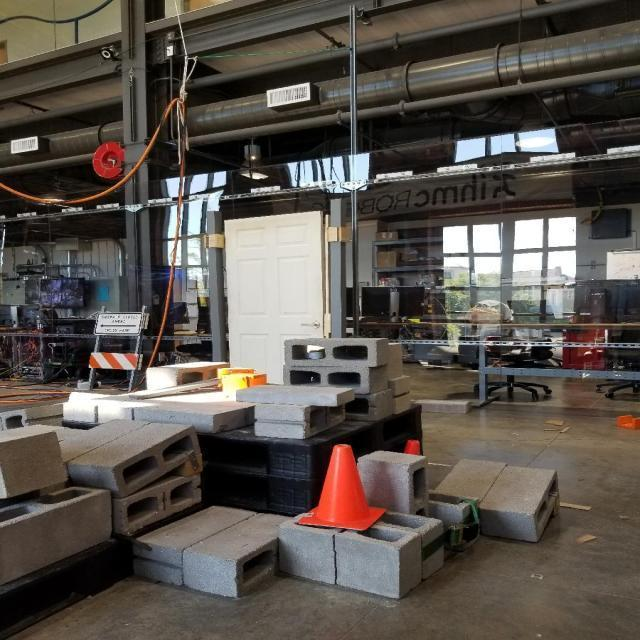door: (219, 210, 331, 403), (302, 319, 322, 329)
